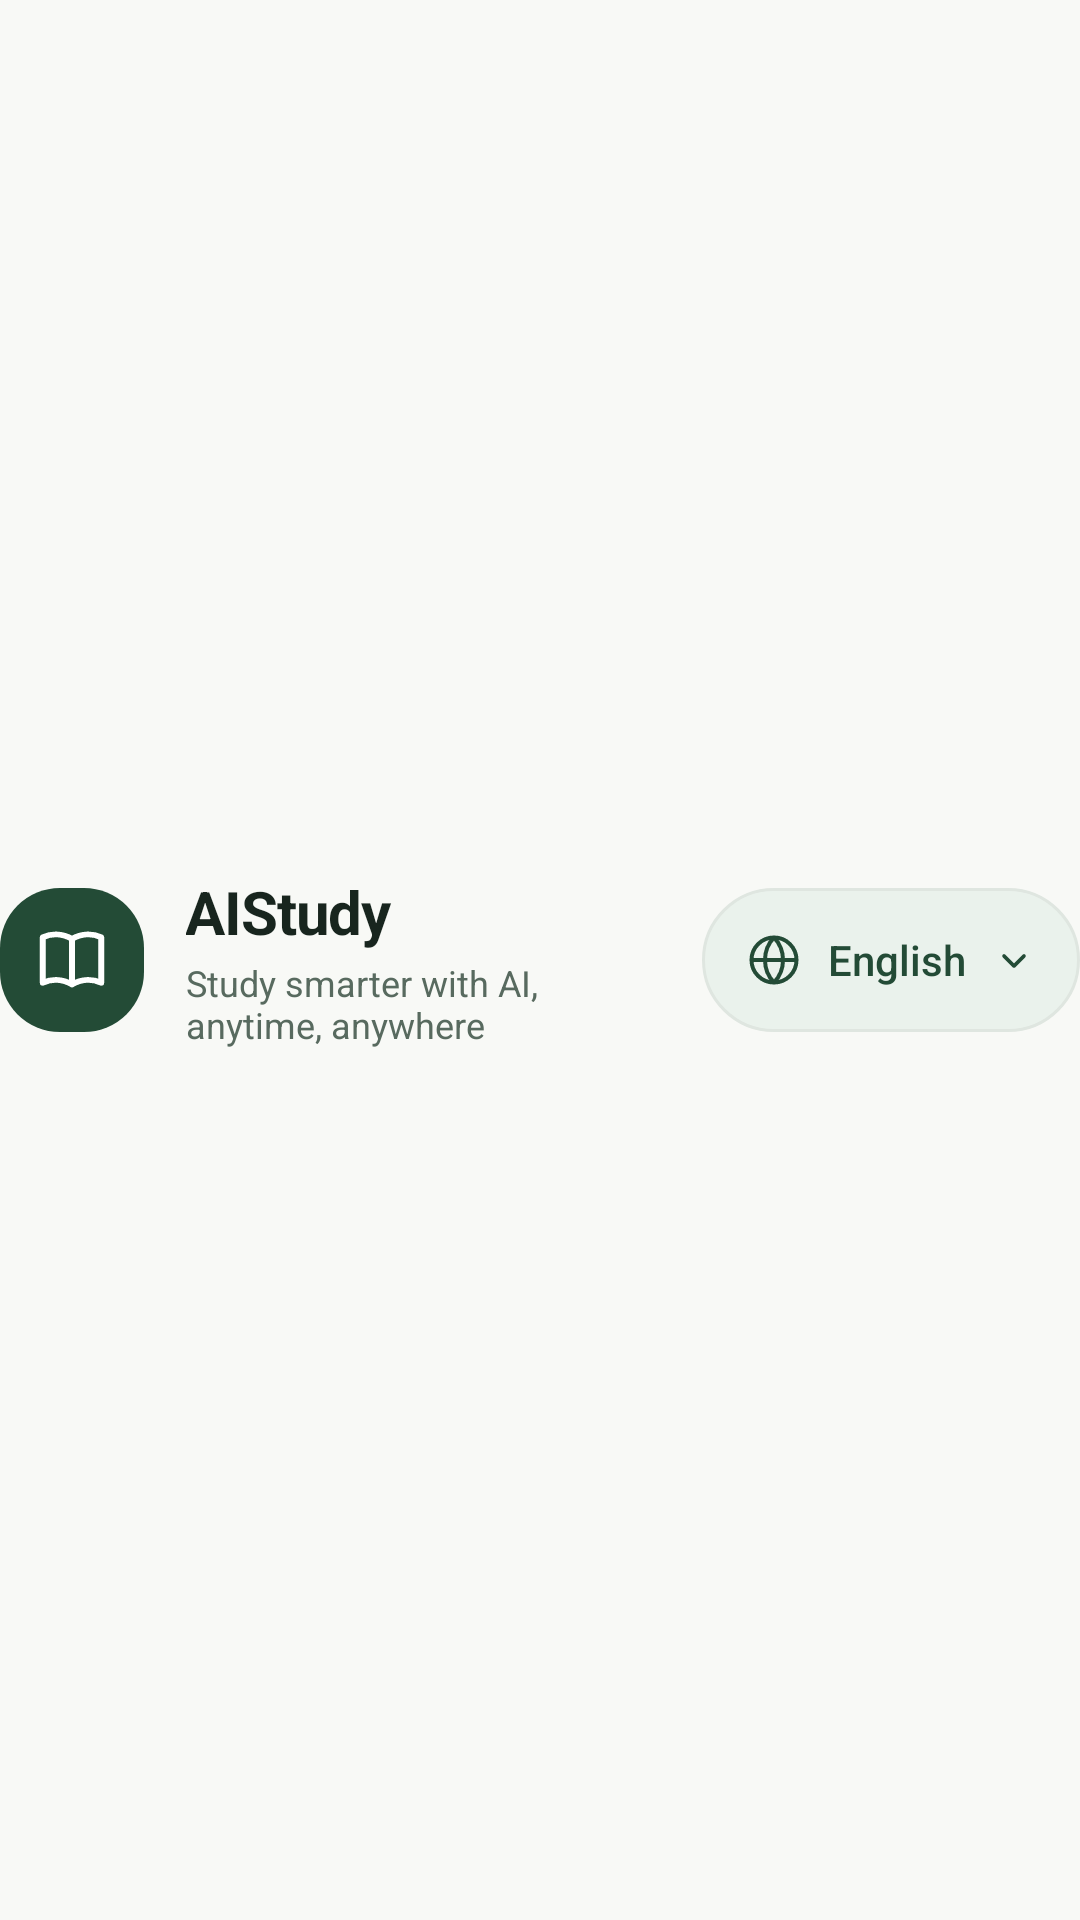

Icons on this 1080px x 1920px Android screen, each with its box as (x1, y1, x2, y2):
answer book: (39, 931, 105, 988)
